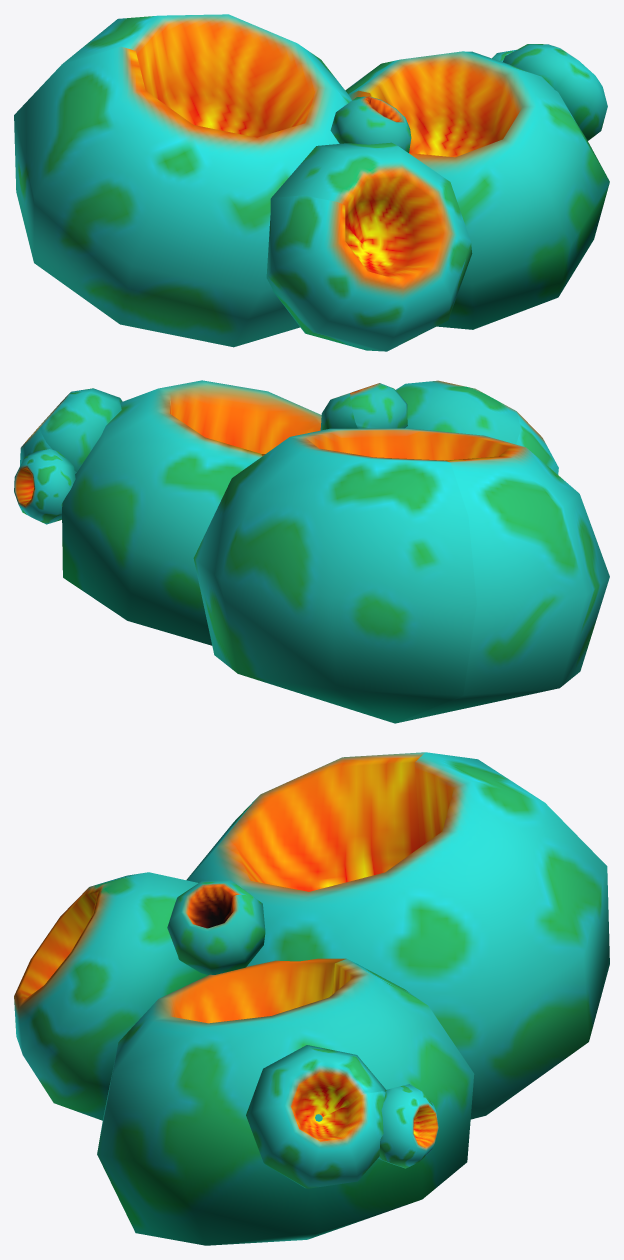
File: coral_04.FBX
3 views of the same model, one above another, from view 1: azimuth 30°, elevation 25°; view 2: azimuth 150°, elevation 25°; view 3: azimuth 270°, elevation 25° (orthographic). The views are drawn at different scales.
Visible parts, largest first — view 1: coral_04; view 2: coral_04; view 3: coral_04.
Boxes of the visible parts, left/top/right/bottom form: coral_04: left=14, top=14, right=609, bottom=351; coral_04: left=14, top=380, right=609, bottom=723; coral_04: left=14, top=752, right=609, bottom=1245.
Size of the model in its own units: 23.72 by 11.23 by 18.75.
